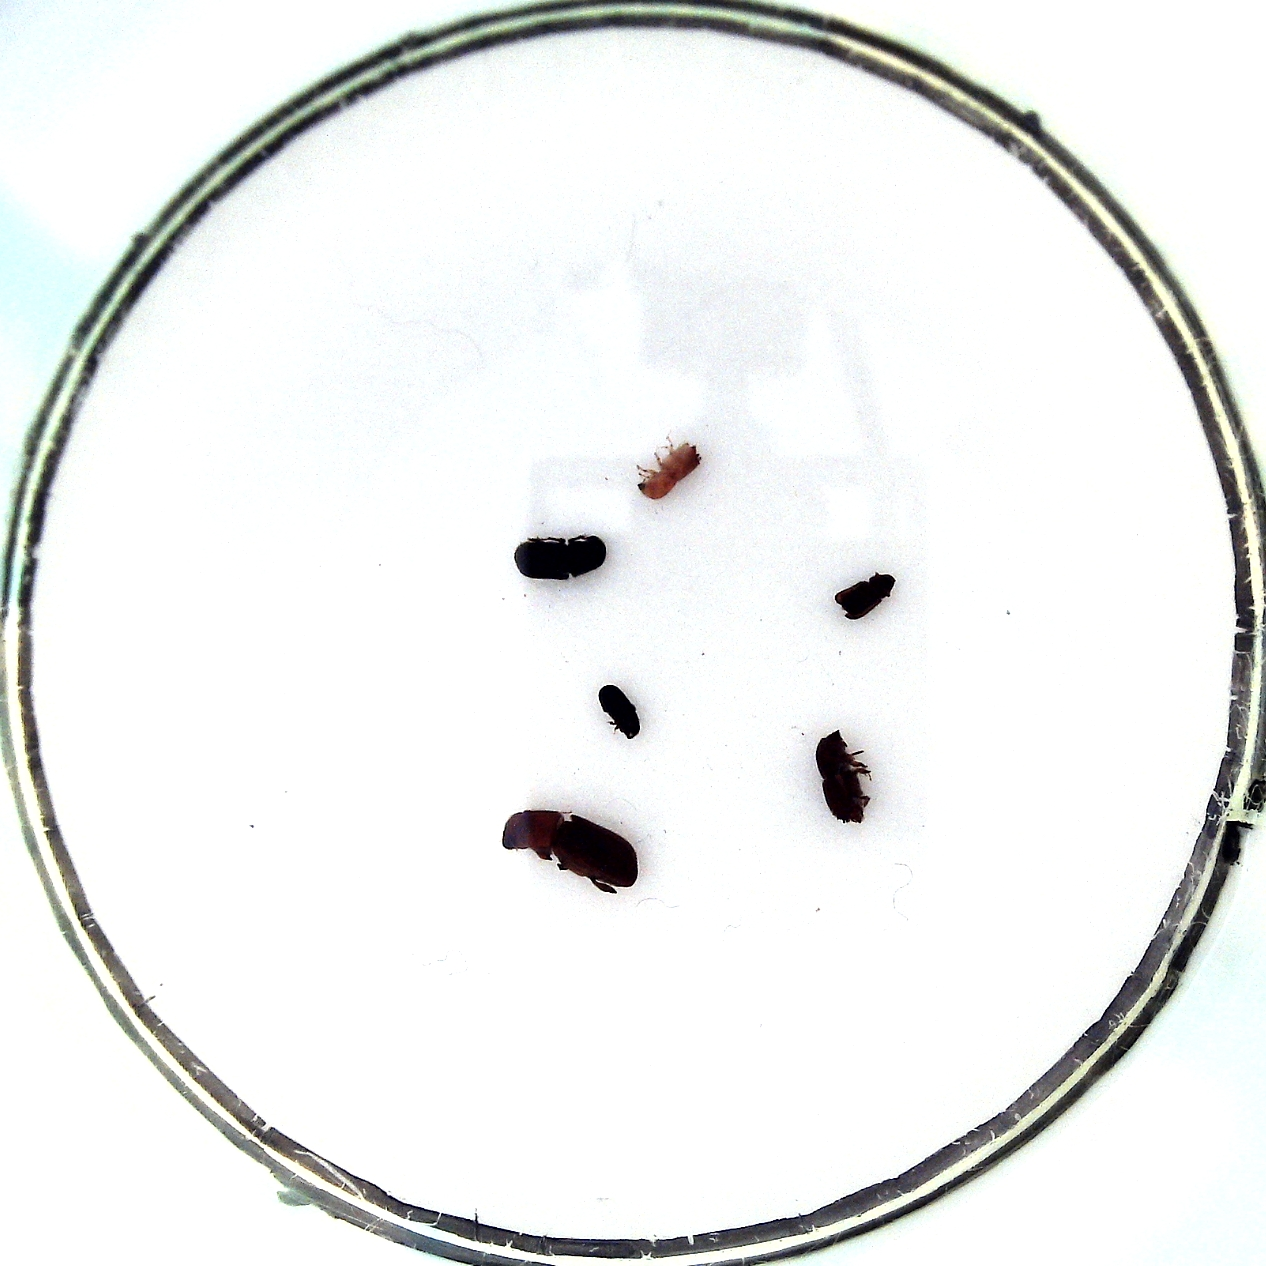Leconte: (502, 810, 636, 888)
acuminatus: (598, 684, 639, 739)
armandi: (514, 534, 606, 581)
coleoptera: (636, 442, 701, 501), (834, 572, 896, 620)
linnaeus: (815, 729, 865, 825)
